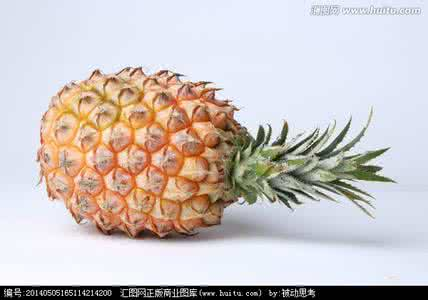pineapple: (31, 62, 392, 234)
